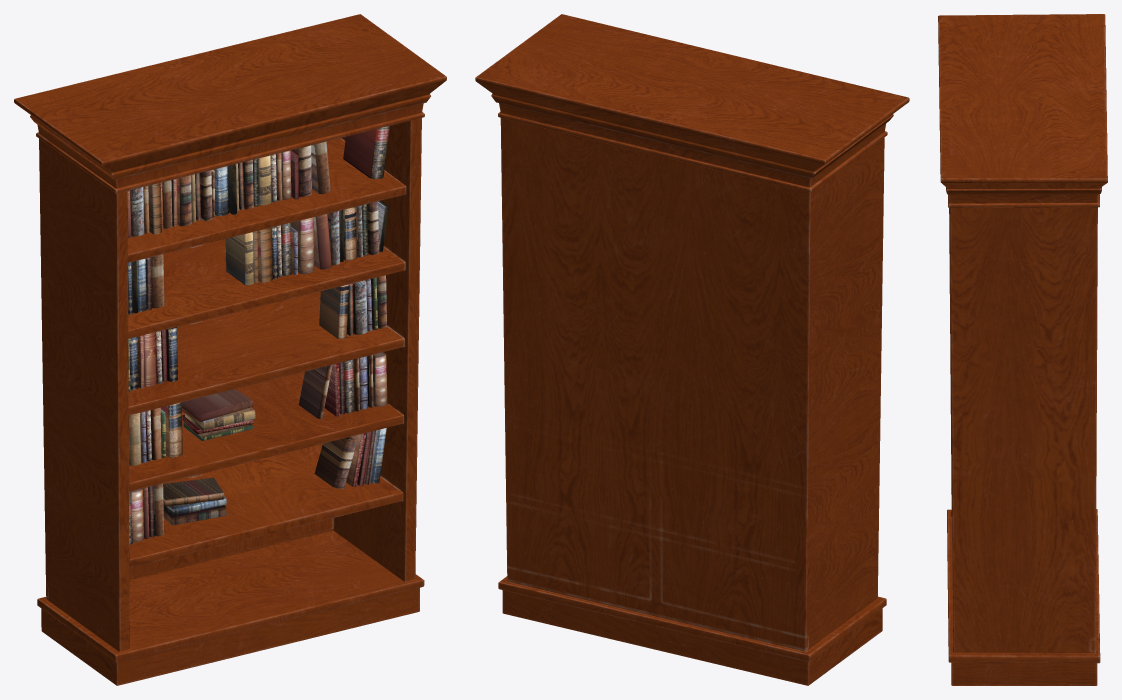
File: victorian_bookshelf.glb
3 views of the same model, side by side, from view 1: azimuth 30°, elevation 25°; view 2: azimuth 150°, elevation 25°; view 3: azimuth 270°, elevation 25° (orthographic). The views are drawn at different scales.
Visible parts, largest first — view 1: Victorian_Bookshelf_0, Books_001_1, Books_004_4, Books_009_9, Books_007_7, Books_012_12, Books_006_6, Books_008_8, Books_005_5, Books_011_11, Books_003_3, Books_010_10 (+1 smaller); view 2: Victorian_Bookshelf_0; view 3: Victorian_Bookshelf_0.
Boxes of the visible parts, left/top/right/bottom form: Victorian_Bookshelf_0: left=14, top=14, right=446, bottom=685; Books_001_1: left=127, top=141, right=330, bottom=238; Books_004_4: left=225, top=200, right=388, bottom=285; Books_009_9: left=298, top=352, right=387, bottom=419; Books_007_7: left=319, top=275, right=387, bottom=339; Books_012_12: left=314, top=428, right=386, bottom=488; Books_006_6: left=182, top=389, right=255, bottom=440; Books_008_8: left=129, top=402, right=182, bottom=466; Books_005_5: left=128, top=327, right=177, bottom=391; Books_011_11: left=163, top=477, right=226, bottom=525; Books_003_3: left=128, top=254, right=164, bottom=314; Books_010_10: left=129, top=483, right=164, bottom=544; Victorian_Bookshelf_0: left=475, top=14, right=909, bottom=685; Victorian_Bookshelf_0: left=938, top=14, right=1107, bottom=685.
Size of the model in its own units: 1.34 by 1.96 by 0.5827.
2 materials, 2 textured.
